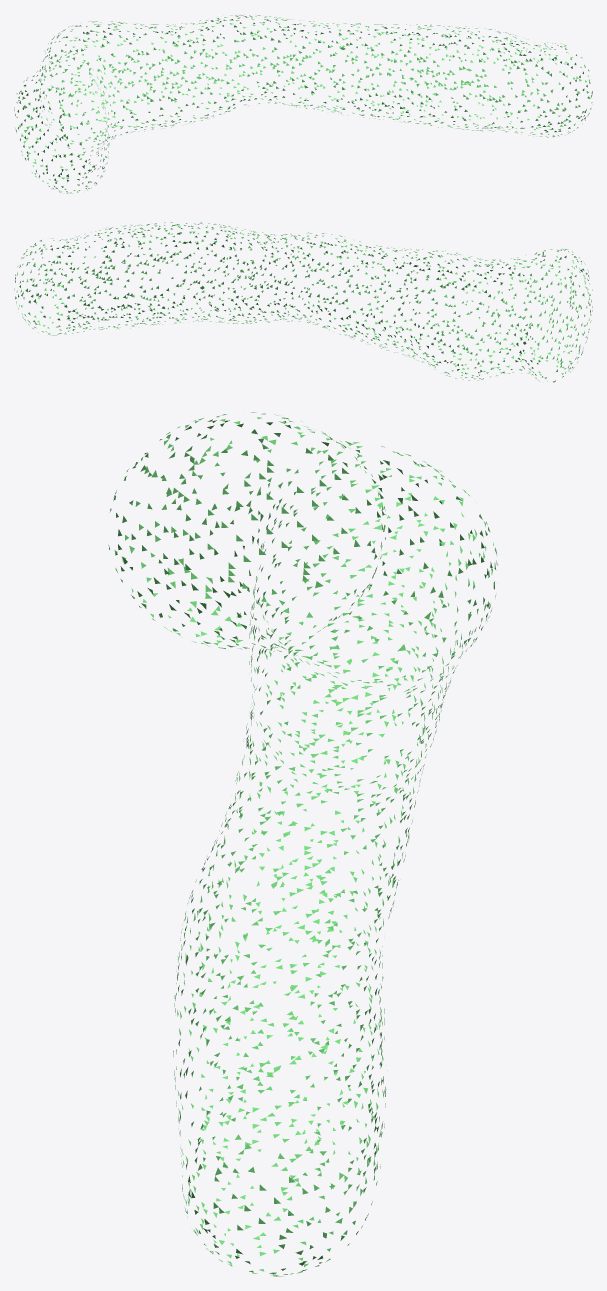
File: morph_018.glb
3 renders of one model, top to bottom at view 1: azimuth 30°, elevation 25°; view 2: azimuth 150°, elevation 25°; view 3: azimuth 270°, elevation 25°, orthographic. The views are drawn at different scales.
Size of the model in its own units: 124 by 41.98 by 38.51.
